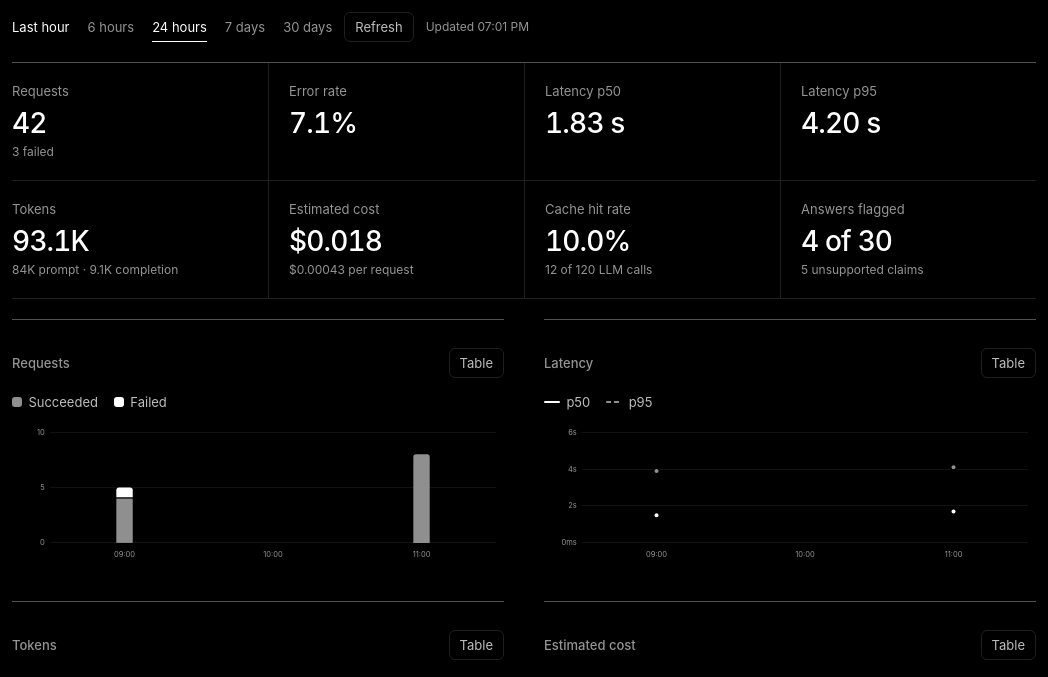
Test case: ObservabilityPage › reads chart values from the keyboard and offers a table view
Press End in the picture named "Requests.", box [12,424,504,561]
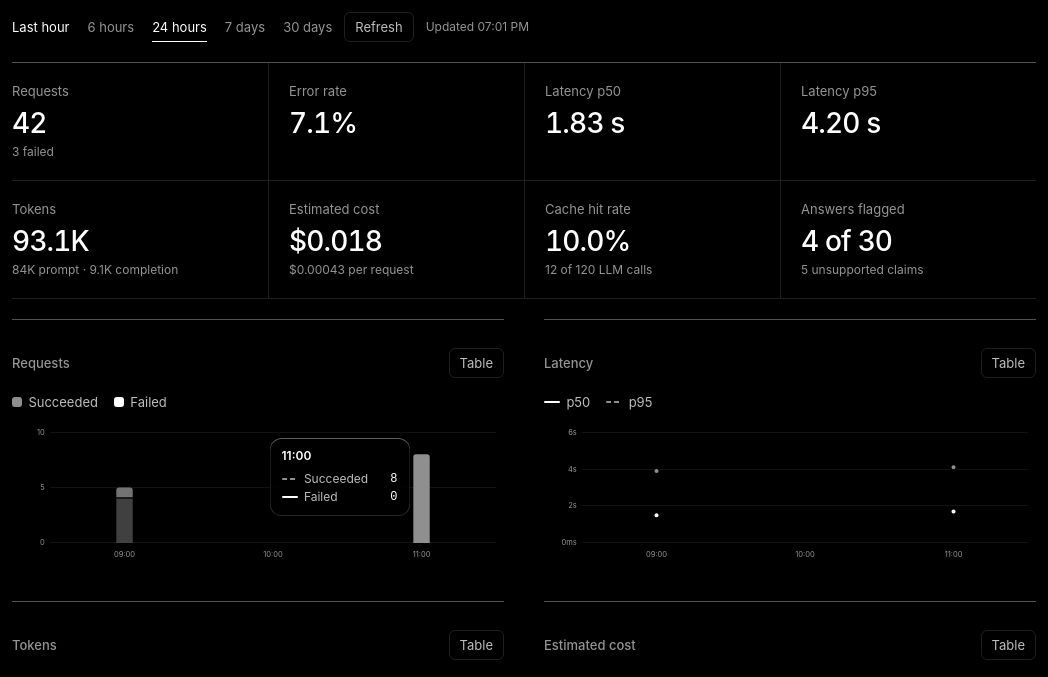
Press ArrowLeft in the picture named "Requests.", box [12,424,504,561]
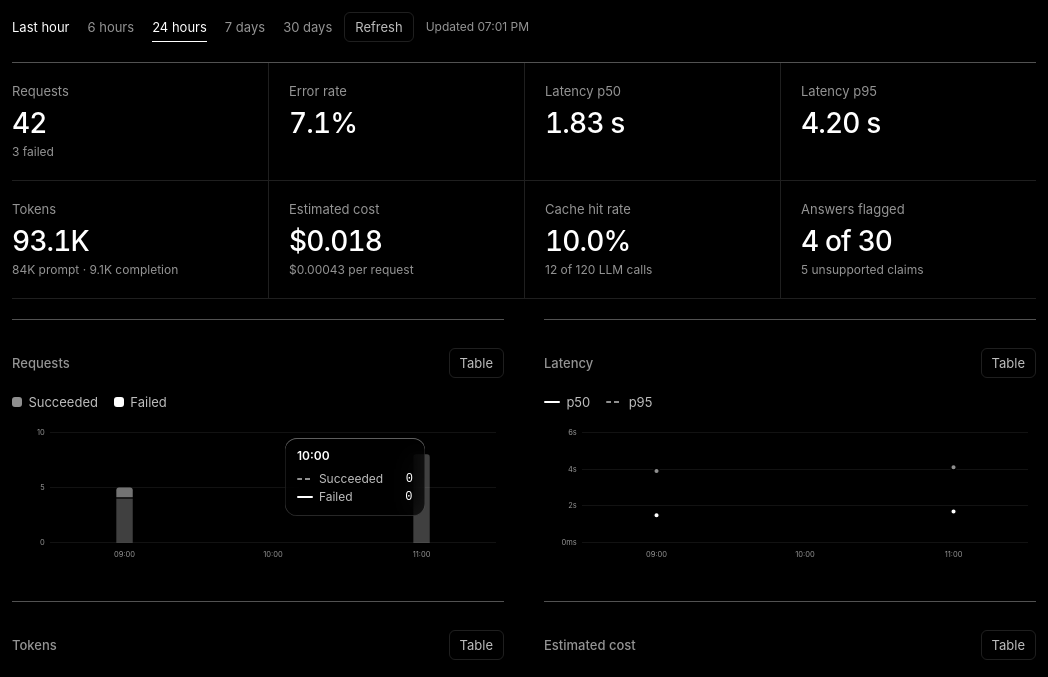
Press Escape in the picture named "Requests.", box [12,424,504,561]
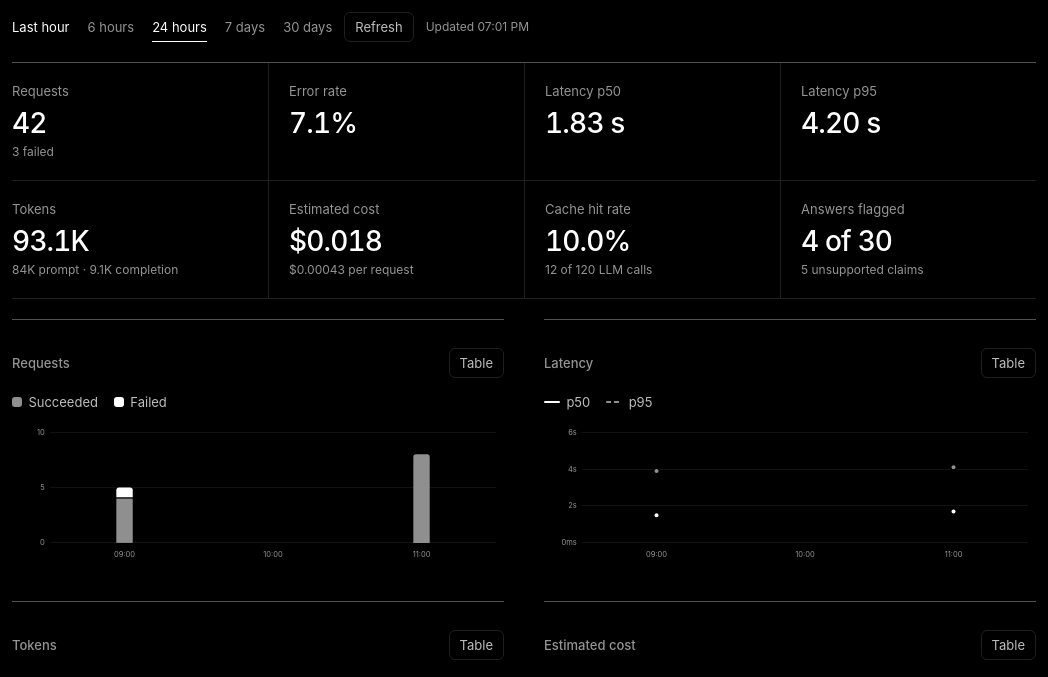
Now the message "10:00 Succeeded 0 Failed 0" is gone
Click the 1st button "Table" at coordinates (476, 363), box [449,348,504,378]
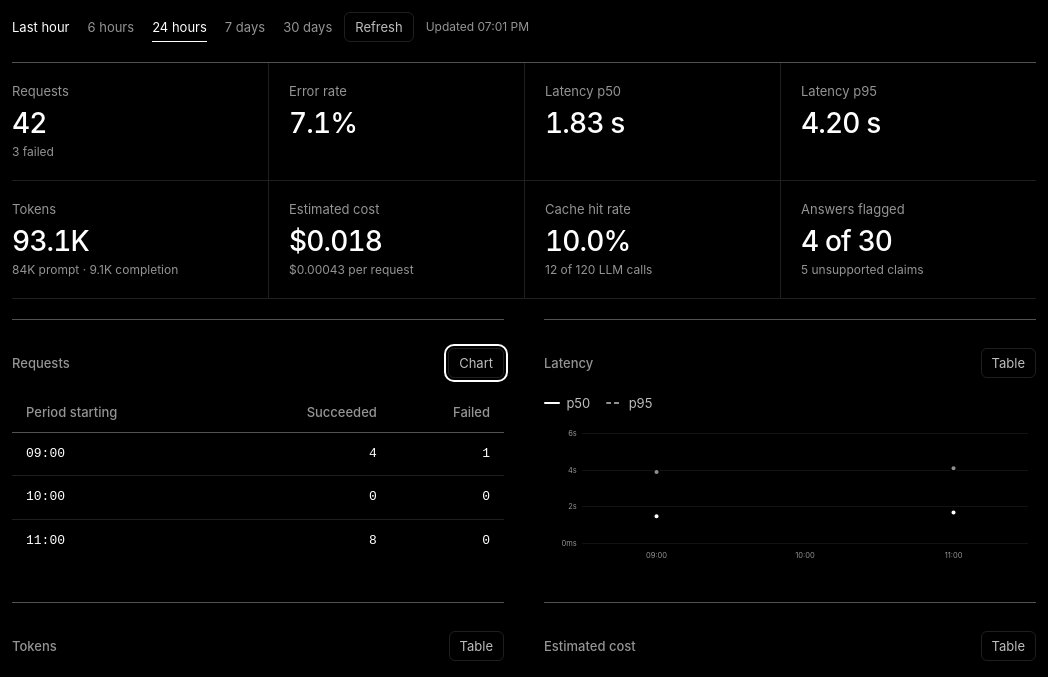
Now the text "8" is shown, box [220,519,391,562]
